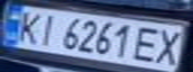1: (109, 21, 136, 60)
2: (75, 17, 100, 54)
6: (57, 16, 84, 52), (93, 20, 115, 56)
E: (130, 25, 166, 64)
I: (33, 12, 63, 47)
K: (9, 8, 48, 44)
X: (151, 26, 190, 65)
